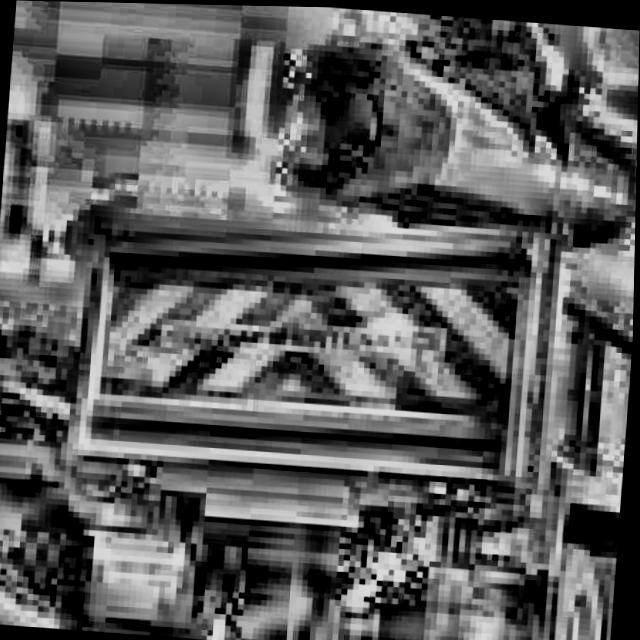dump_truck: (12, 175, 637, 640)
